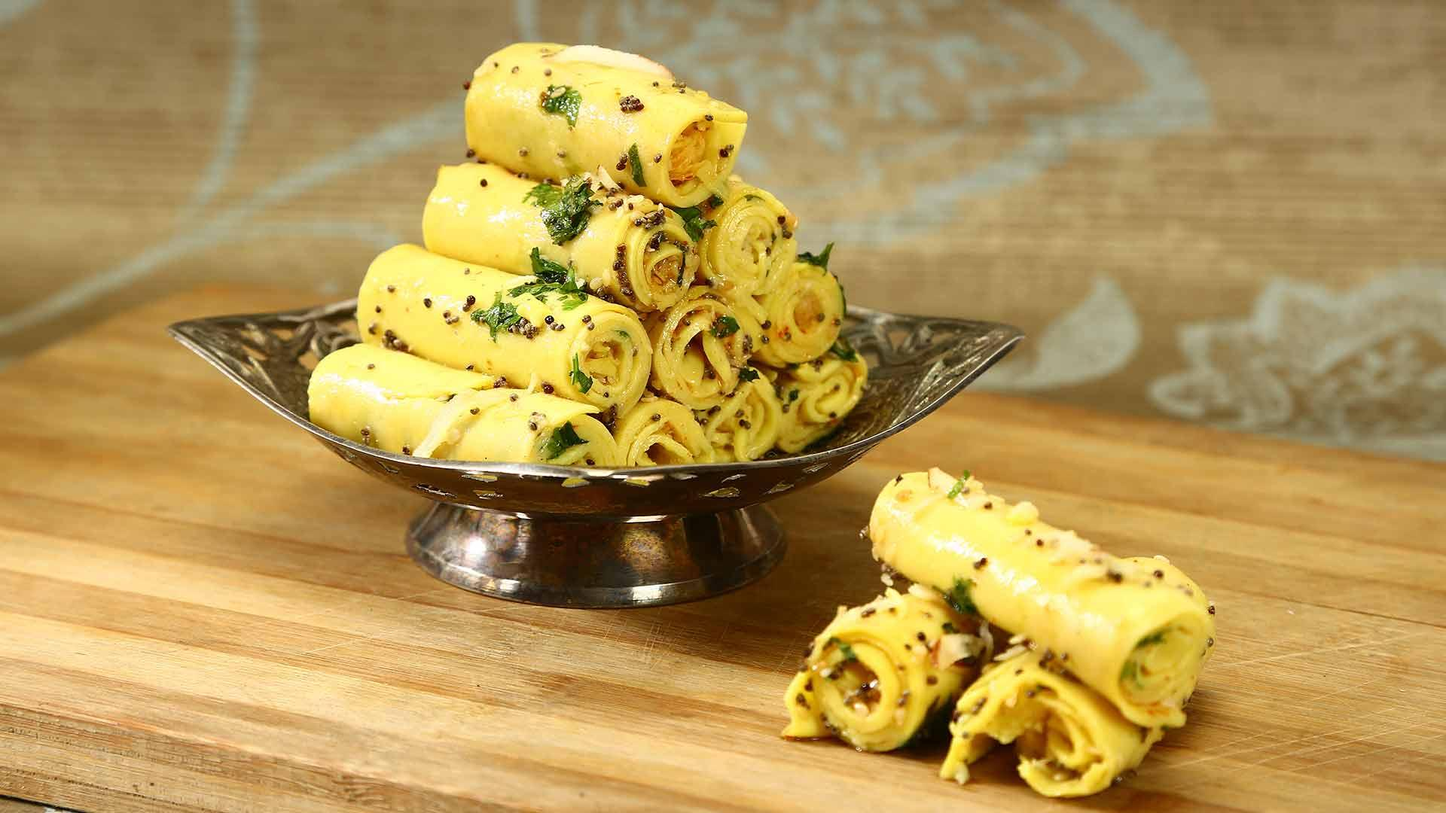khandvi: (394, 41, 894, 455), (844, 465, 1228, 792)
